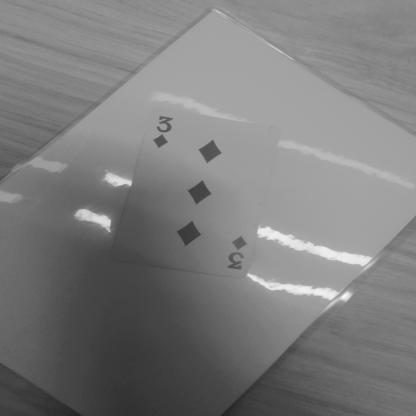3D: (222, 231, 258, 272), (148, 116, 184, 154)
